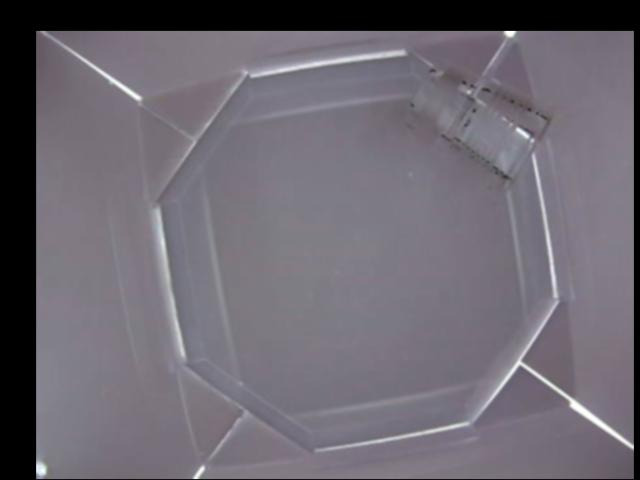Cup: (409, 63, 555, 176)
